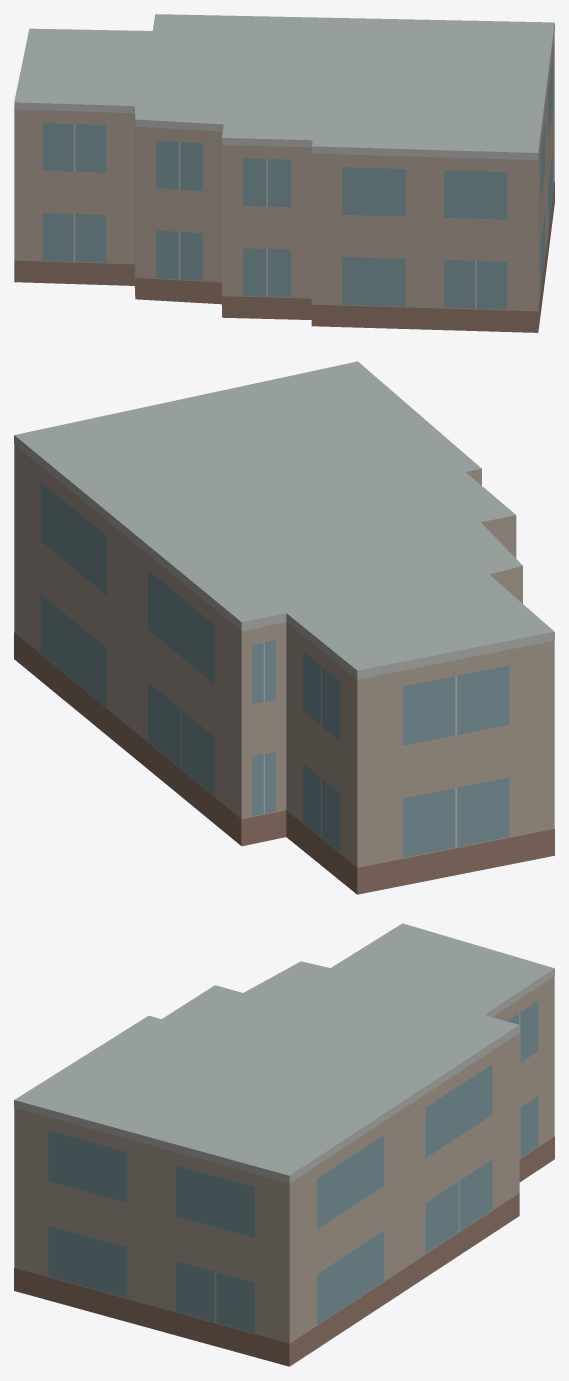
The model's file is survey-upis-32885898.glb.
3 views of the same model, one above another, from view 1: azimuth 30°, elevation 25°; view 2: azimuth 150°, elevation 25°; view 3: azimuth 270°, elevation 25° (orthographic). The views are drawn at different scales.
Visible parts, largest first — view 1: survey-upis-32885898.tmp; view 2: survey-upis-32885898.tmp; view 3: survey-upis-32885898.tmp.
Boxes of the visible parts, x1,y1,x2,y2 form: survey-upis-32885898.tmp: [14, 14, 554, 332]; survey-upis-32885898.tmp: [14, 361, 554, 894]; survey-upis-32885898.tmp: [14, 923, 554, 1366].
Bounding box in the file's own units: 17.31 × 6.1 × 15.67.
